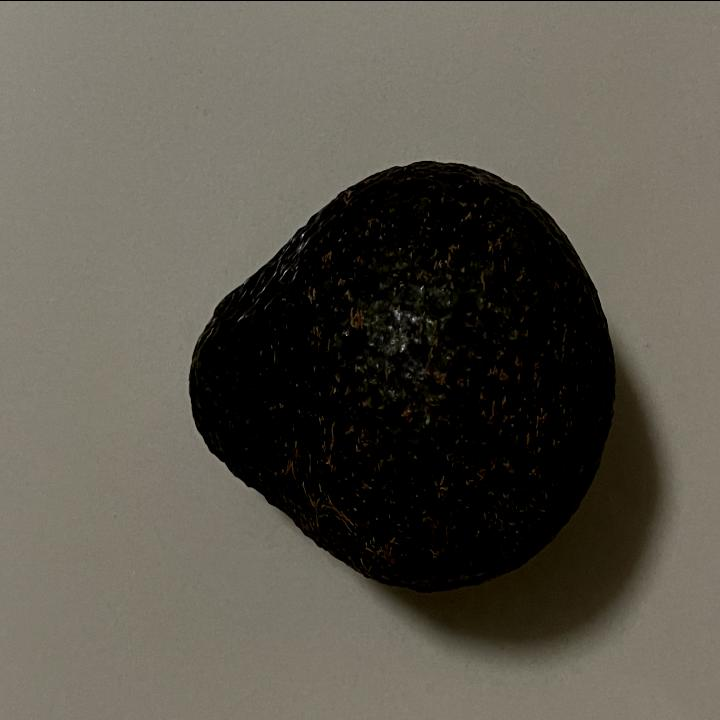Level1: (178, 148, 628, 606)
